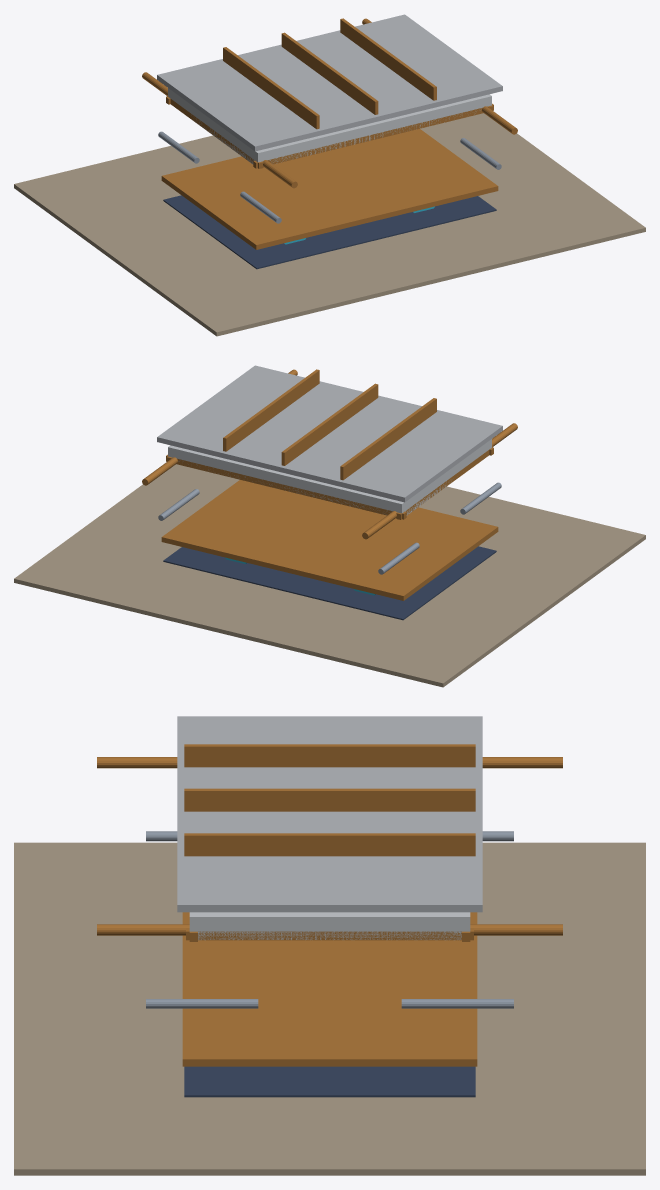
File: stage_10_roof_covering.glb
3 renders of one model, top to bottom at view 1: azimuth 30°, elevation 25°; view 2: azimuth 150°, elevation 25°; view 3: azimuth 270°, elevation 25°, orthographic. The views are drawn at different scales.
Visible parts, largest first — view 1: world; view 2: world; view 3: world.
Part boxes in pixels (x1,y1,x2,y2): world: (14, 14, 645, 336); world: (14, 365, 645, 687); world: (14, 716, 645, 1175).
Bounding box in the file's own units: 11 × 3.5 × 9.
